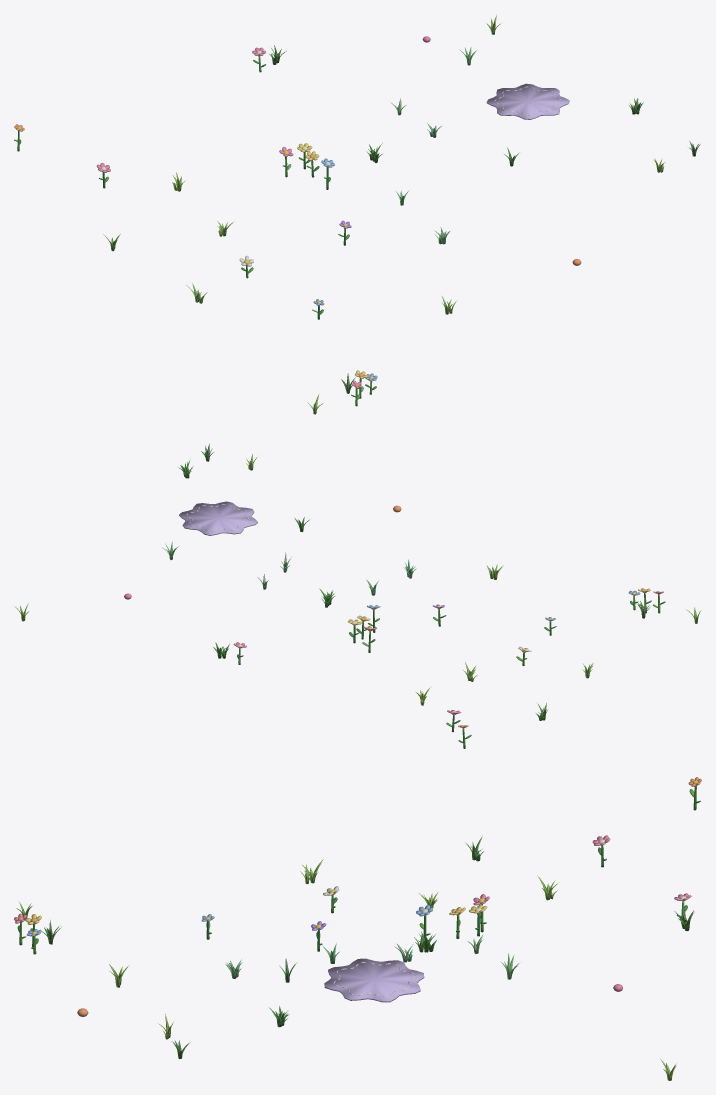
Rendered from W1_FloraRing_8_8.fbx.
The picture shows the model from 3 angles, top to bottom: view 1: azimuth 30°, elevation 25°; view 2: azimuth 150°, elevation 25°; view 3: azimuth 270°, elevation 25°; orthographic projection. The views are drawn at different scales.
Parts seen in each view (by area): view 1: W1_FloraRing_8_8; view 2: W1_FloraRing_8_8; view 3: W1_FloraRing_8_8.
Part boxes in pixels (box(x1,y1,x2,y2)): W1_FloraRing_8_8: box(14, 15, 700, 414); W1_FloraRing_8_8: box(14, 443, 701, 748); W1_FloraRing_8_8: box(14, 777, 701, 1080).
Bounding box in the file's own units: 3.92 × 1.08 × 3.86.
